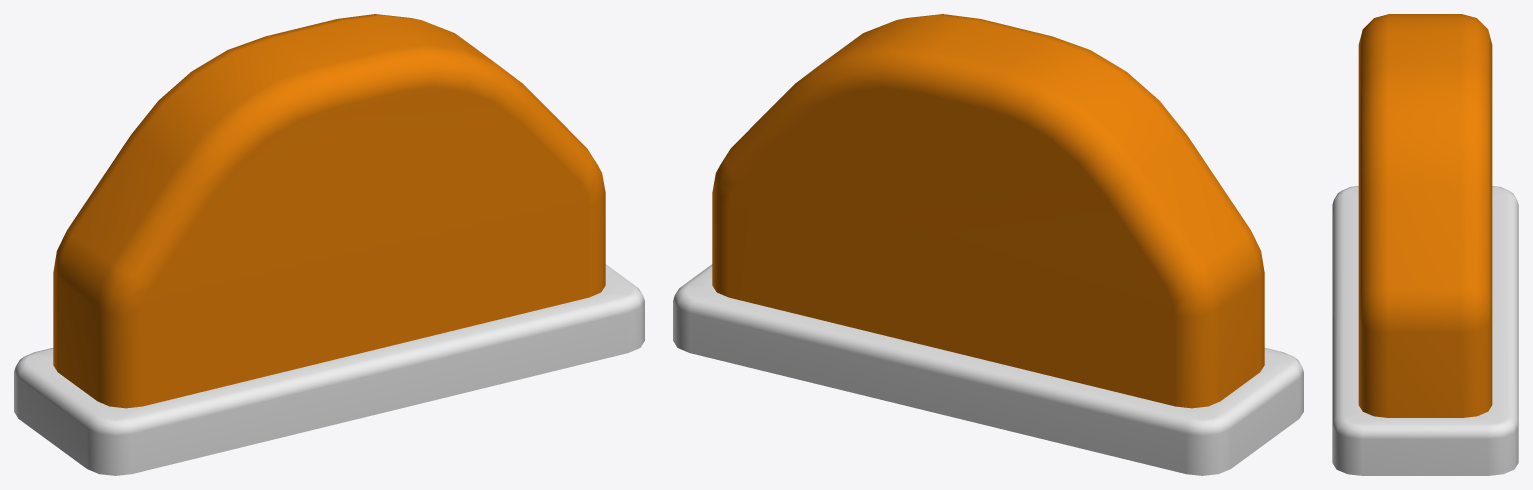
The model's file is Obstacle2.fbx.
3 views of the same model, side by side, from view 1: azimuth 30°, elevation 25°; view 2: azimuth 150°, elevation 25°; view 3: azimuth 270°, elevation 25° (orthographic). The views are drawn at different scales.
Visible parts, largest first — view 1: Obstacle2; view 2: Obstacle2; view 3: Obstacle2.
Part boxes in pixels (left/top/right/bottom): Obstacle2: left=14, top=14, right=644, bottom=475; Obstacle2: left=673, top=14, right=1303, bottom=475; Obstacle2: left=1332, top=14, right=1518, bottom=475.
Bounding box in the file's own units: 203 × 116 × 64.36.
